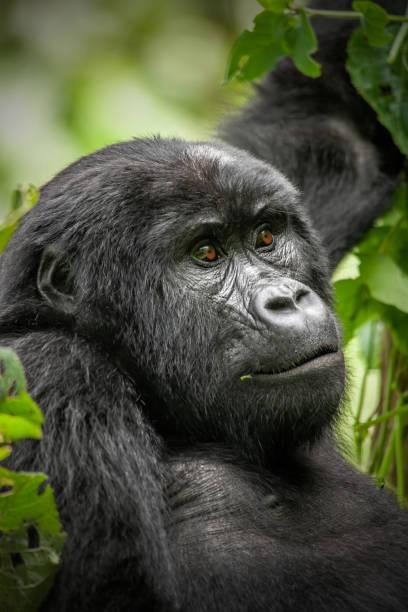goriile_montagne: (12, 124, 401, 612)
